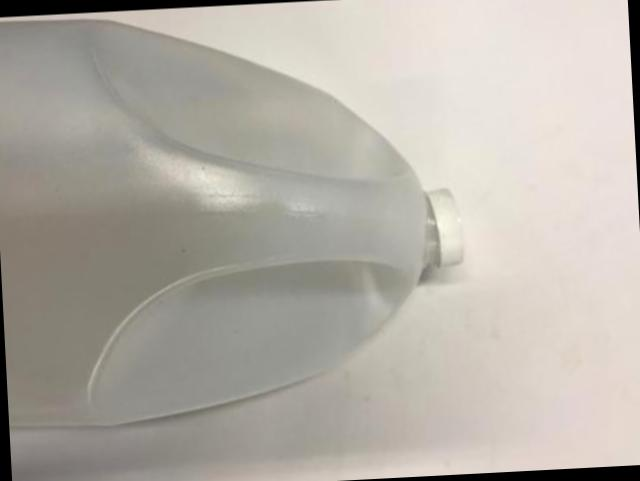plastic: (0, 22, 463, 426)
